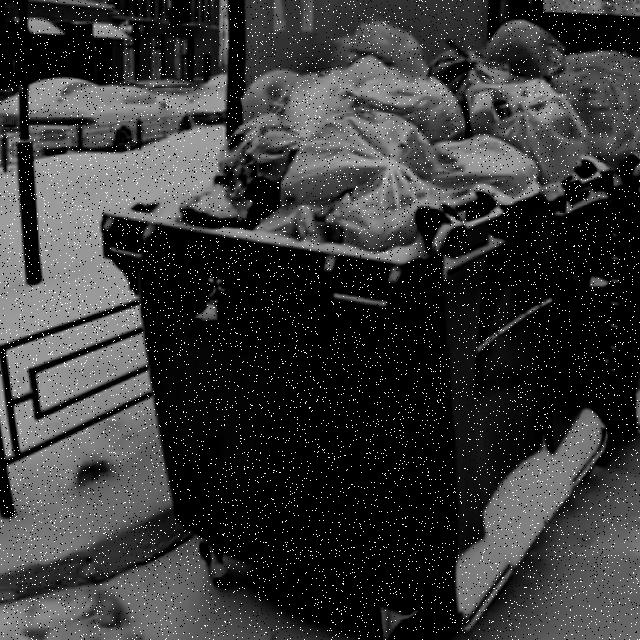Trashcan: (107, 9, 616, 631)
